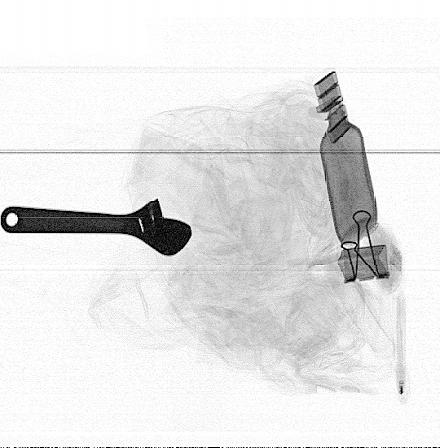Wrench: (0, 198, 195, 257)
